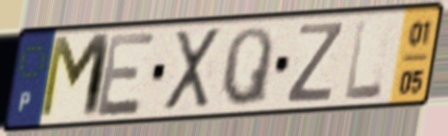E: (94, 29, 159, 120)
L: (343, 16, 386, 104)
M: (35, 30, 115, 124)
Q: (218, 24, 276, 109)
X: (162, 25, 223, 115)
Z: (283, 20, 347, 106)
